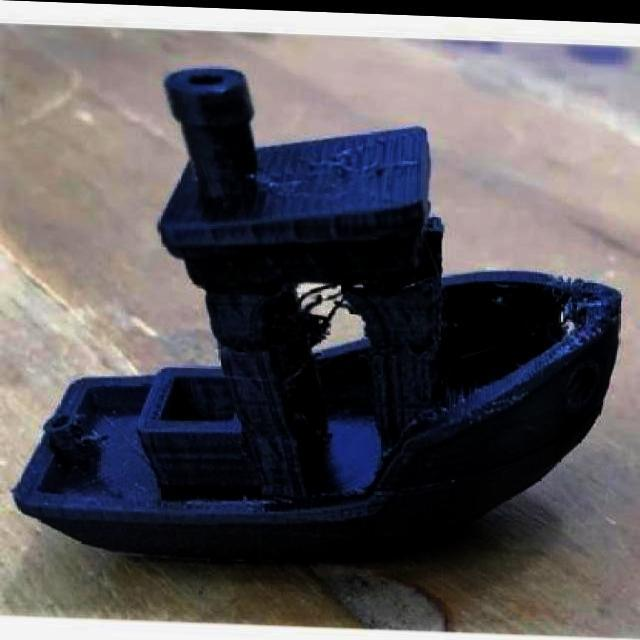spaghetti: (288, 276, 346, 346), (547, 269, 604, 324)
